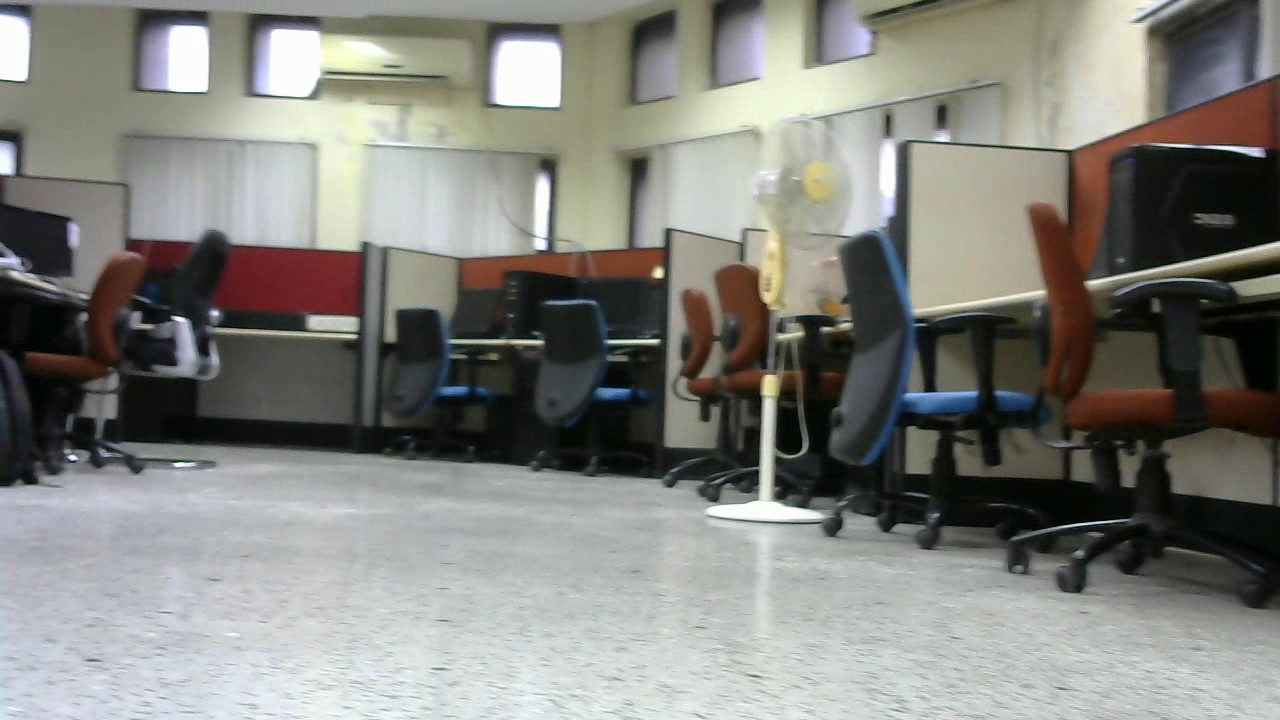chair: (1011, 206, 1280, 614), (825, 234, 1052, 548), (662, 262, 856, 512), (81, 226, 232, 469), (11, 245, 136, 478), (522, 298, 658, 475), (371, 312, 493, 468)
